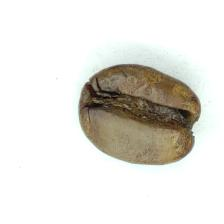NG: (91, 79, 191, 144)
